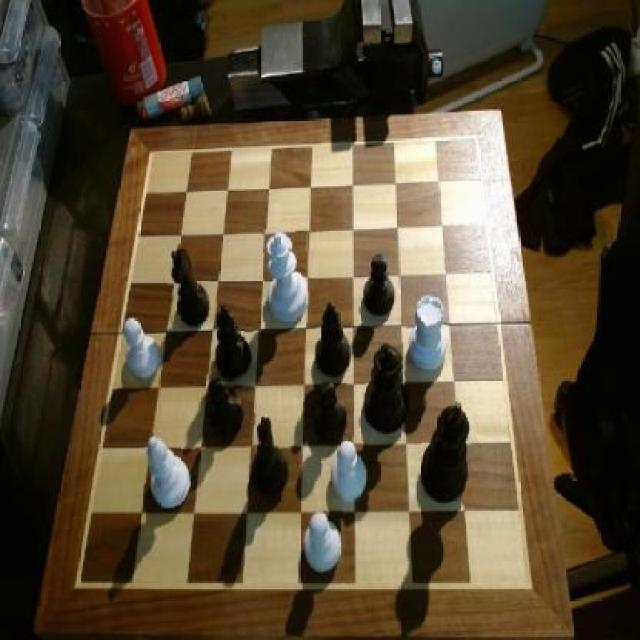bishop: (212, 303, 257, 385), (315, 302, 353, 382)
black-bishop: (420, 400, 472, 505)
black-king: (168, 242, 212, 329), (249, 415, 292, 497)
black-knight: (208, 374, 247, 439), (362, 251, 398, 317), (312, 381, 348, 444)
black-pawn: (366, 343, 409, 435)
black-rook: (144, 435, 196, 511)
white-knight: (301, 509, 344, 577), (121, 317, 162, 385), (332, 439, 368, 503)
white-pawn: (263, 228, 311, 325)
white-queen: (408, 294, 449, 375)
